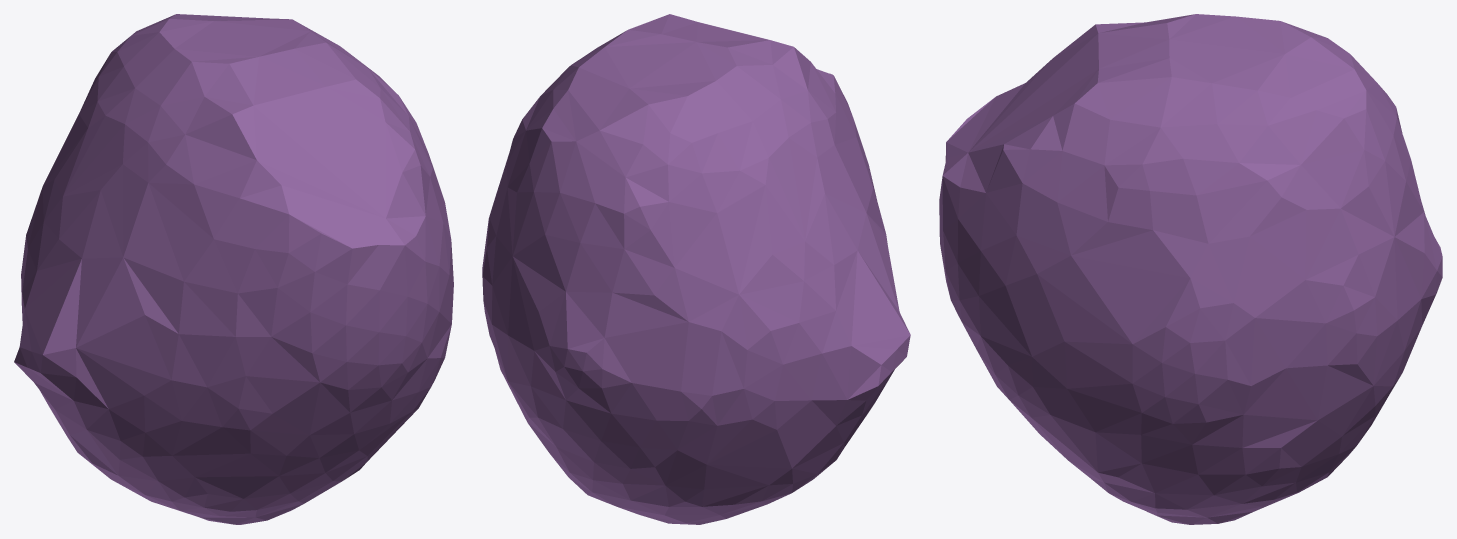
File: Model_364_RH__Medial_mammillary_nucleus__medial_part_(MM).obj
The picture shows the model from 3 angles, left to right: view 1: azimuth 30°, elevation 25°; view 2: azimuth 150°, elevation 25°; view 3: azimuth 270°, elevation 25°; orthographic projection. The views are drawn at different scales.
Size of the model in its own units: 0.975 by 1.09 by 1.04.
